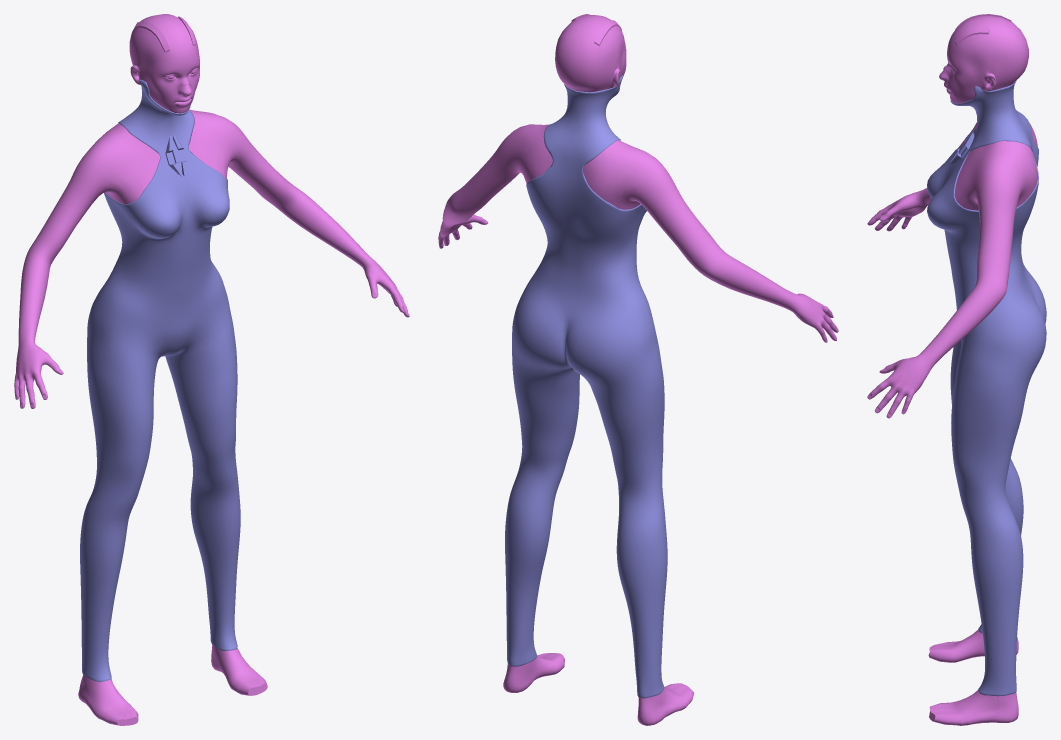
Rendered from SM_perso_2.fbx.
3 views of the same model, side by side, from view 1: azimuth 30°, elevation 25°; view 2: azimuth 150°, elevation 25°; view 3: azimuth 270°, elevation 25° (orthographic).
Visible parts, largest first — view 1: habit_low, corp_low; view 2: habit_low, corp_low; view 3: habit_low, corp_low.
Boxes of the visible parts, x1,y1,x2,y2 form: habit_low: (80,79,240,682); corp_low: (14,14,409,725); habit_low: (505,75,667,698); corp_low: (438,14,838,725); habit_low: (927,80,1046,696); corp_low: (867,14,1037,725).
Bounding box in the file's own units: 102 × 170 × 41.16.
